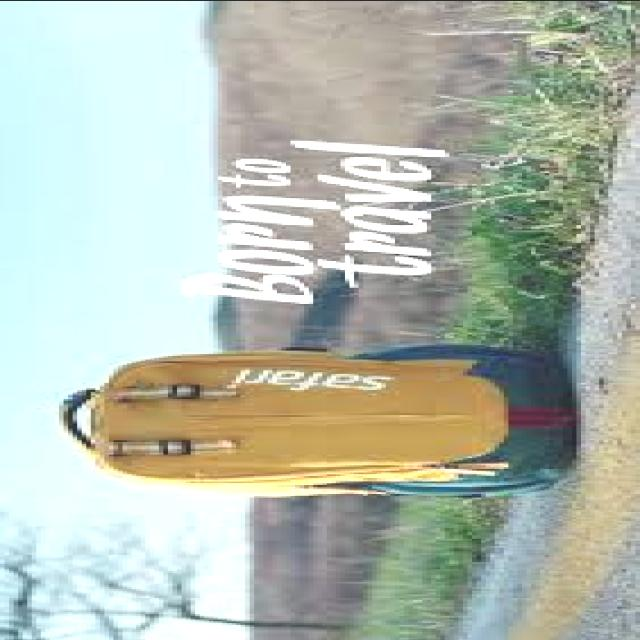backpack: (55, 344, 573, 502)
